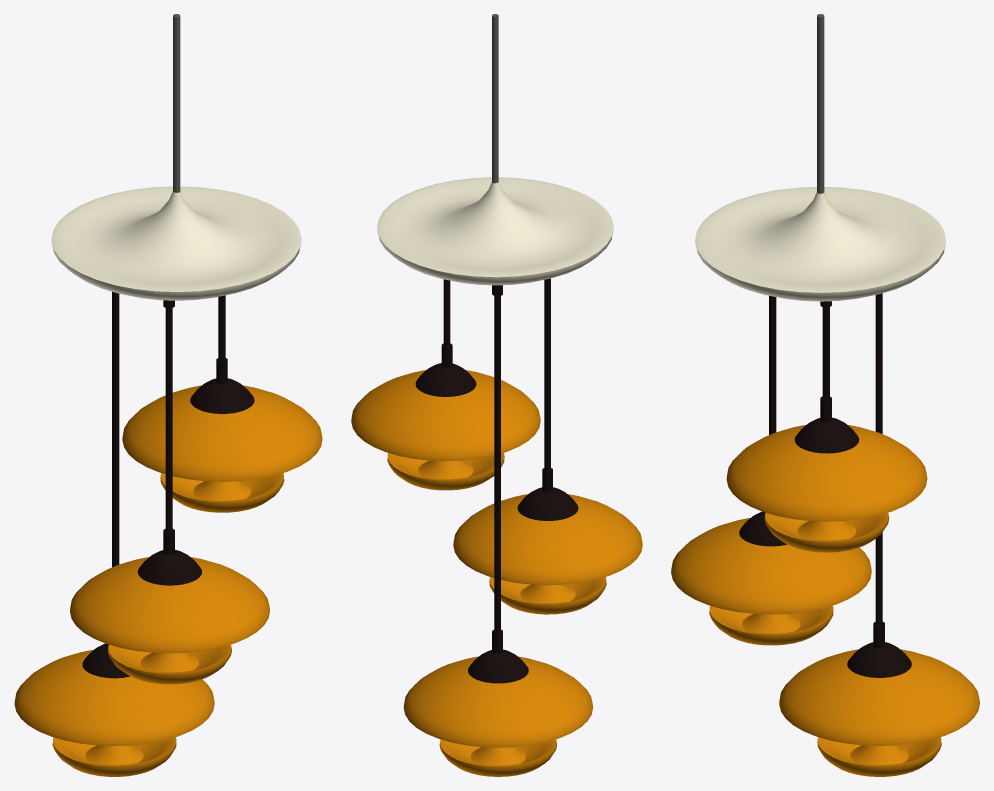
File: SmallLamp.fbx
3 views of the same model, side by side, from view 1: azimuth 30°, elevation 25°; view 2: azimuth 150°, elevation 25°; view 3: azimuth 270°, elevation 25° (orthographic). The views are drawn at different scales.
Visible parts, largest first — view 1: Lamp (×3), Top, Wire (×3); view 2: Lamp (×3), Top, Wire (×3); view 3: Lamp (×3), Top, Wire (×3).
Part boxes in pixels (x1,y1,x2,y2): Lamp (×3): (14, 385, 322, 776); Top: (51, 14, 301, 300); Wire (×3): (82, 291, 254, 678); Lamp (×3): (351, 370, 642, 776); Top: (377, 14, 613, 285); Wire (×3): (415, 278, 578, 683); Lamp (×3): (671, 425, 979, 776); Top: (695, 14, 945, 301); Wire (×3): (739, 293, 911, 677).
Size of the model in its own units: 2.17 by 6.23 by 2.27.
